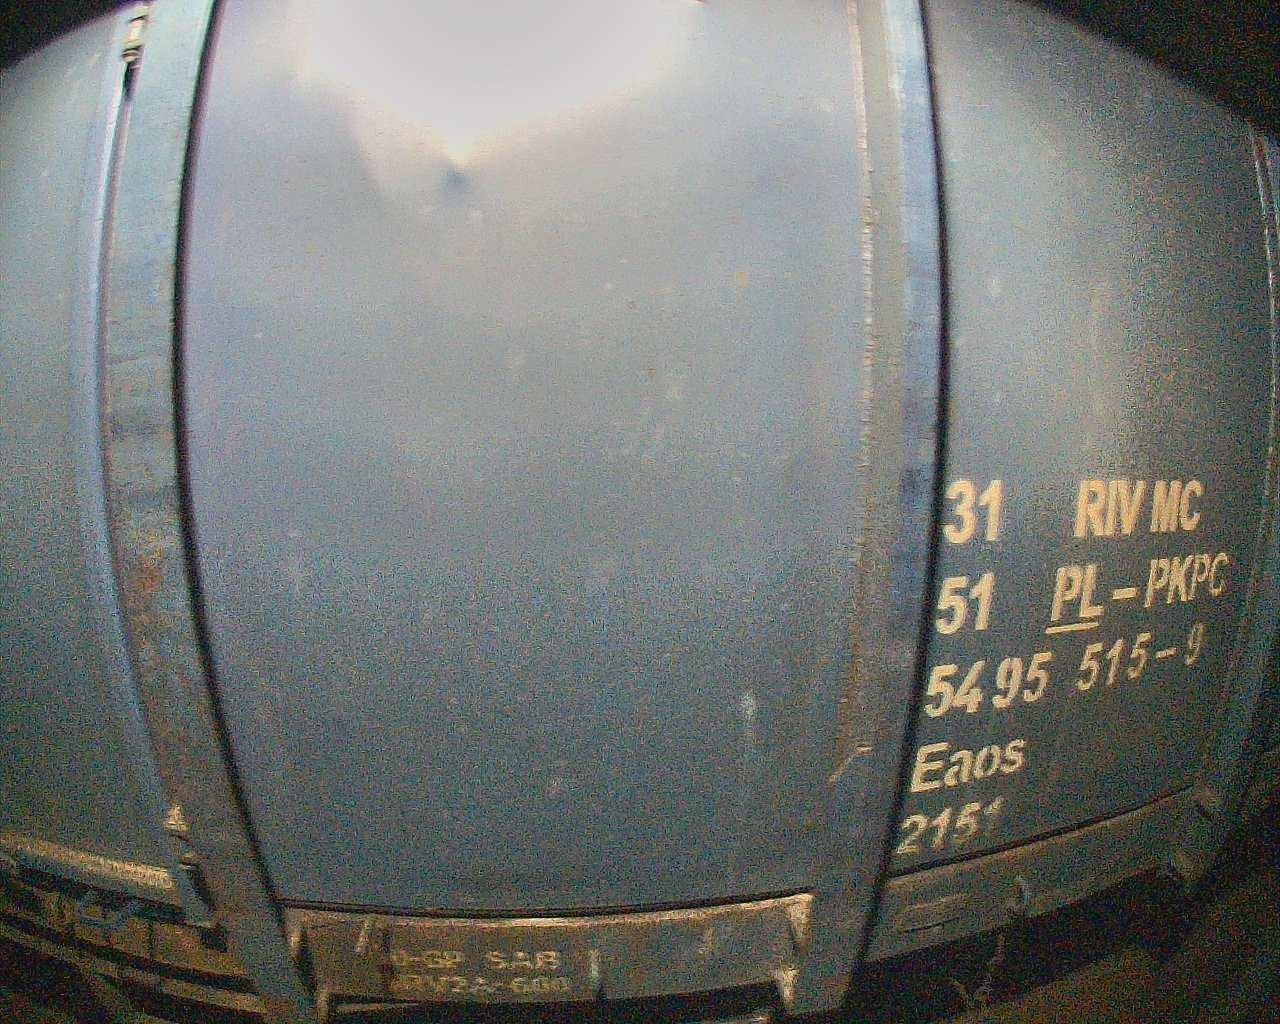UIC: (894, 473, 1232, 863)
